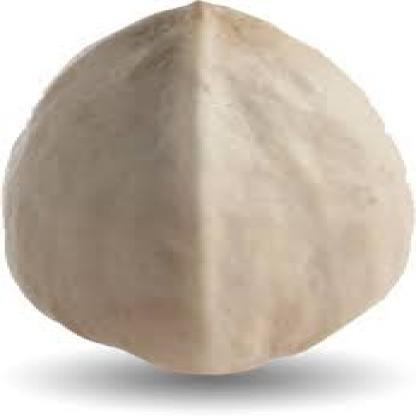hazelnut: (6, 0, 416, 390)
